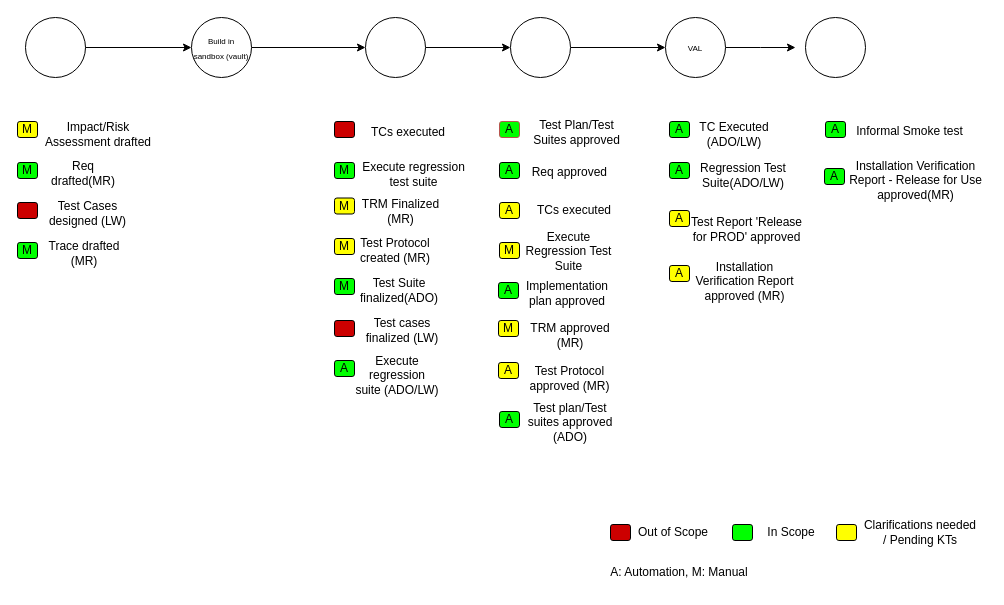
Image size: 1004x605. Some labels were removed from this diagram. The box of each missing label's shape, as (x1, y1, x2, y2) in pixels:
Dev: (364, 16, 426, 78)
Feature/User Story: (24, 16, 86, 78)
PROD: (804, 16, 866, 78)
Test: (510, 16, 570, 78)
